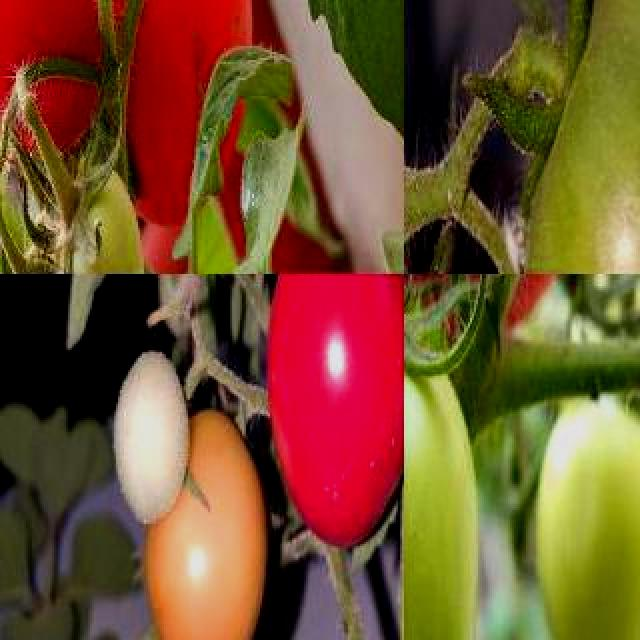Fresh_Tomato: (94, 0, 254, 234), (266, 274, 404, 544), (0, 0, 140, 198), (150, 408, 268, 640), (404, 274, 608, 392)
